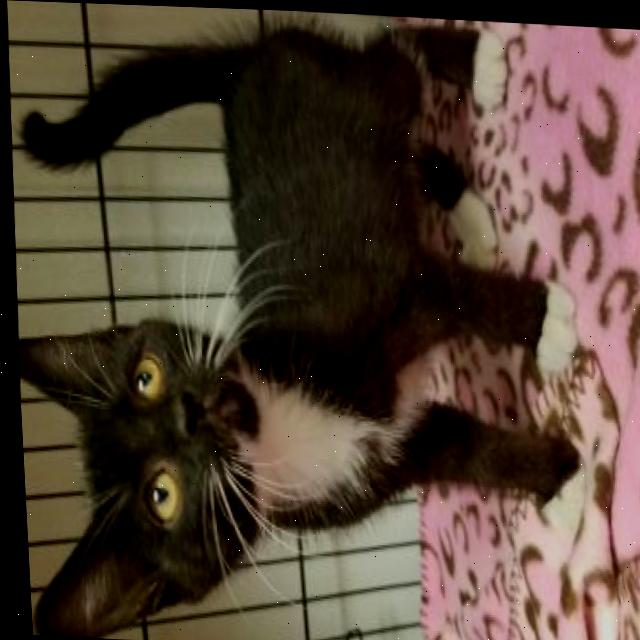Tuxedo: (0, 0, 596, 640)
